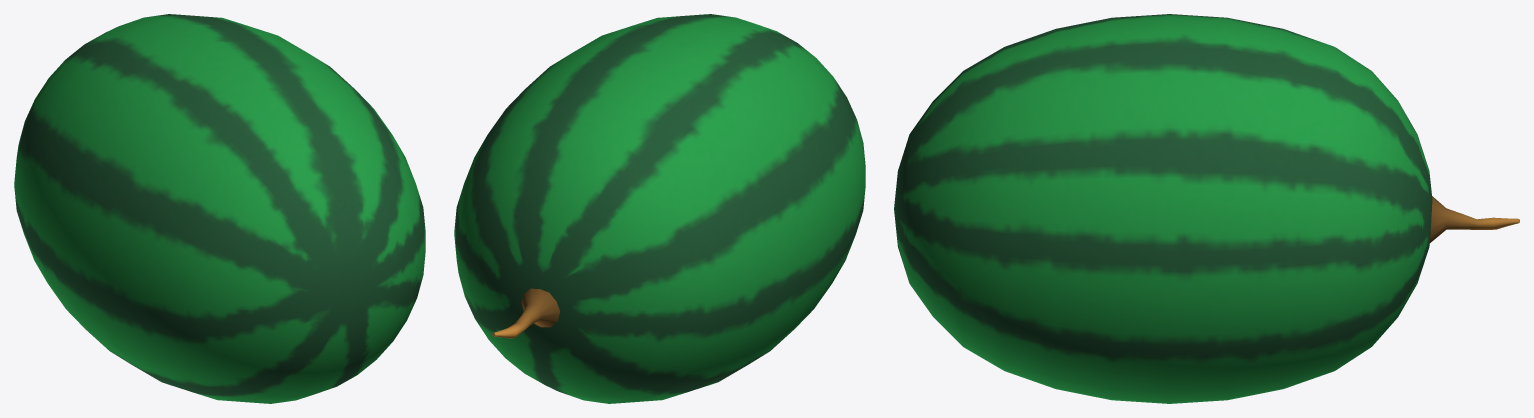
File: WaterMelon_Whole.fbx
3 views of the same model, side by side, from view 1: azimuth 30°, elevation 25°; view 2: azimuth 150°, elevation 25°; view 3: azimuth 270°, elevation 25° (orthographic). The views are drawn at different scales.
Visible parts, largest first — view 1: Sphere.003; view 2: Sphere.003; view 3: Sphere.003.
Boxes of the visible parts, x1,y1,x2,y2 form: Sphere.003: [14, 14, 425, 403]; Sphere.003: [454, 14, 865, 403]; Sphere.003: [894, 14, 1519, 403].
Bounding box in the file's own units: 194 × 194 × 312.
